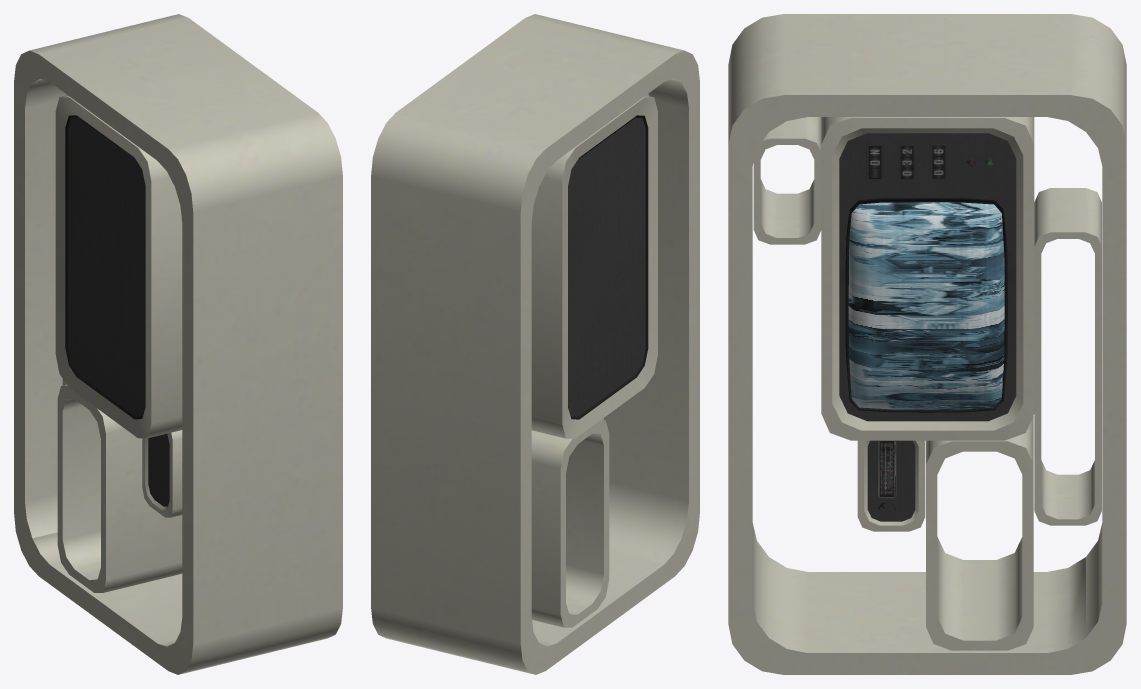
Rendered from nt_entertainment_center_LOD2.obj.
3 views of the same model, side by side, from view 1: azimuth 30°, elevation 25°; view 2: azimuth 150°, elevation 25°; view 3: azimuth 270°, elevation 25° (orthographic). The views are drawn at different scales.
Parts seen in each view (by area): view 1: mtl_nt_entertainment_center, mtl_nt_tv_wall; view 2: mtl_nt_entertainment_center, mtl_nt_tv_wall; view 3: mtl_nt_entertainment_center, mtl_nt_2020_screen_animated_01, mtl_nt_tv_wall.
Boxes of the visible parts, x1,y1,x2,y2 form: mtl_nt_entertainment_center: (14,14,342,674); mtl_nt_tv_wall: (65,115,169,506); mtl_nt_entertainment_center: (371,14,699,674); mtl_nt_tv_wall: (568,115,648,419); mtl_nt_entertainment_center: (728,14,1126,674); mtl_nt_2020_screen_animated_01: (848,202,1004,409); mtl_nt_tv_wall: (839,133,1016,521).
Size of the model in its own units: 80.46 by 243 by 151.
